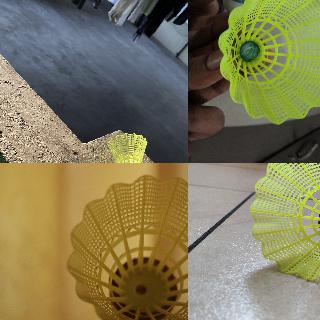shuttlecock: (67, 174, 187, 319), (219, 0, 319, 123), (247, 163, 319, 283), (109, 132, 148, 162)
